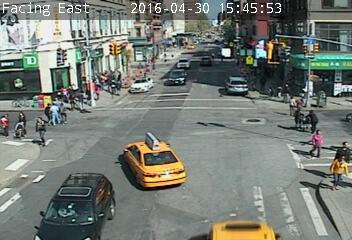neg: (221, 142, 272, 209), (85, 156, 114, 194), (128, 1, 154, 36), (152, 121, 178, 156), (273, 39, 298, 72), (194, 105, 217, 137), (35, 176, 58, 208), (314, 22, 337, 53), (177, 11, 194, 34), (230, 76, 247, 99), (142, 66, 159, 88), (231, 27, 245, 45), (168, 54, 180, 69), (273, 4, 284, 19), (194, 58, 198, 62)
pos: (28, 113, 53, 147), (9, 110, 33, 143), (329, 152, 351, 187), (309, 129, 329, 155), (282, 93, 301, 119), (304, 107, 323, 133), (73, 92, 92, 117), (45, 100, 63, 124), (53, 83, 71, 107), (116, 73, 123, 83)
